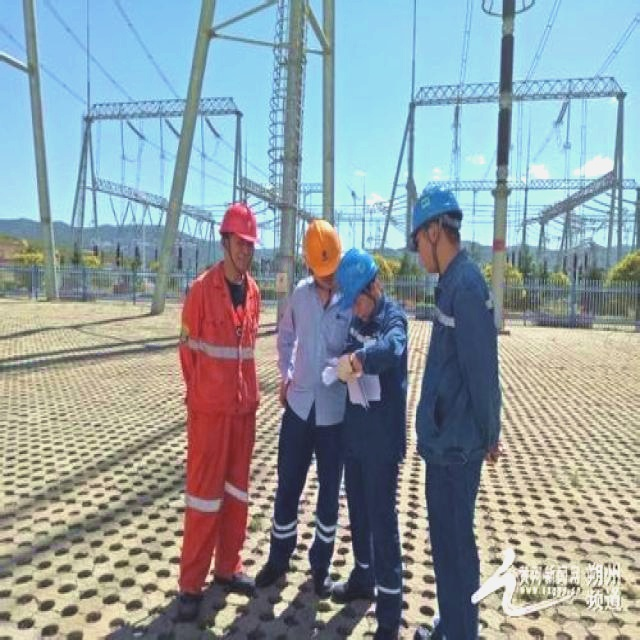Con_Casco: (407, 181, 460, 273), (223, 203, 256, 274)
